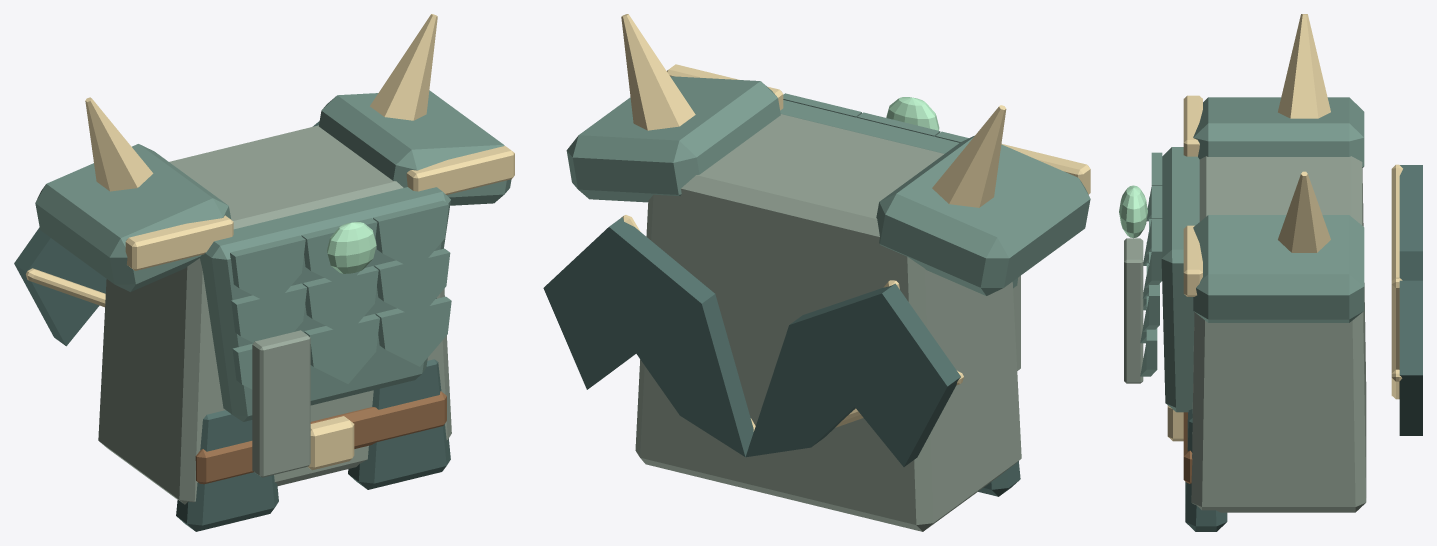
Rendered from Dragon_Runner_Torso.fbx.
3 renders of one model, left to right at view 1: azimuth 30°, elevation 25°; view 2: azimuth 150°, elevation 25°; view 3: azimuth 270°, elevation 25°, orthographic. The views are drawn at different scales.
Visible parts, largest first — view 1: Dragon_Runner_Torso; view 2: Dragon_Runner_Torso; view 3: Dragon_Runner_Torso.
Part boxes in pixels (left/top/right/bottom): Dragon_Runner_Torso: left=14, top=14, right=514, bottom=531; Dragon_Runner_Torso: left=543, top=14, right=1090, bottom=531; Dragon_Runner_Torso: left=1119, top=14, right=1422, bottom=531.
Size of the model in its own units: 104 by 98.7 by 71.16.
